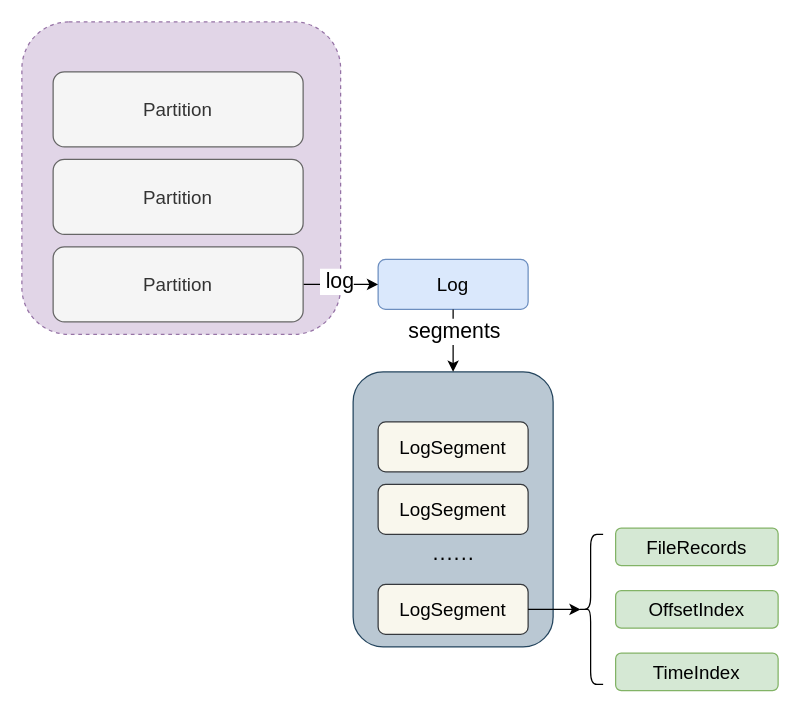
This 800x713 diagram has some shape labels left out. The box of each missing label's shape, as (x1, y1, x2, y2) in pixels:
LogSegments: (352, 371, 553, 647)
Topic: (21, 21, 341, 334)
